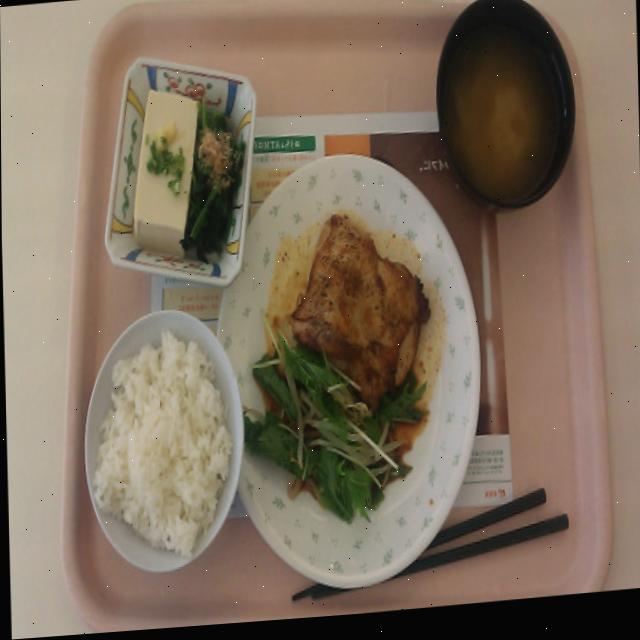米饭主食: (79, 317, 243, 551)
